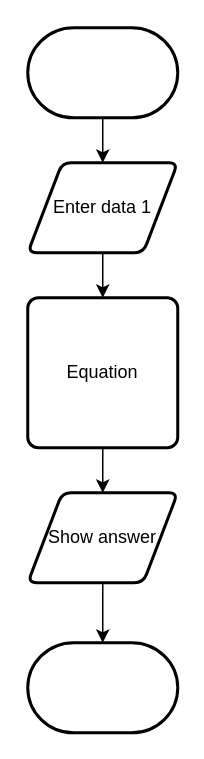
Some shapes in this 204 by 759 pixel diagram are drawn without their labels. The shapes that lost their labels are listed below. From the top down, each one's centre as x and y in pixels, then its label:
the point at 102,72: Start
the point at 102,687: Stop
